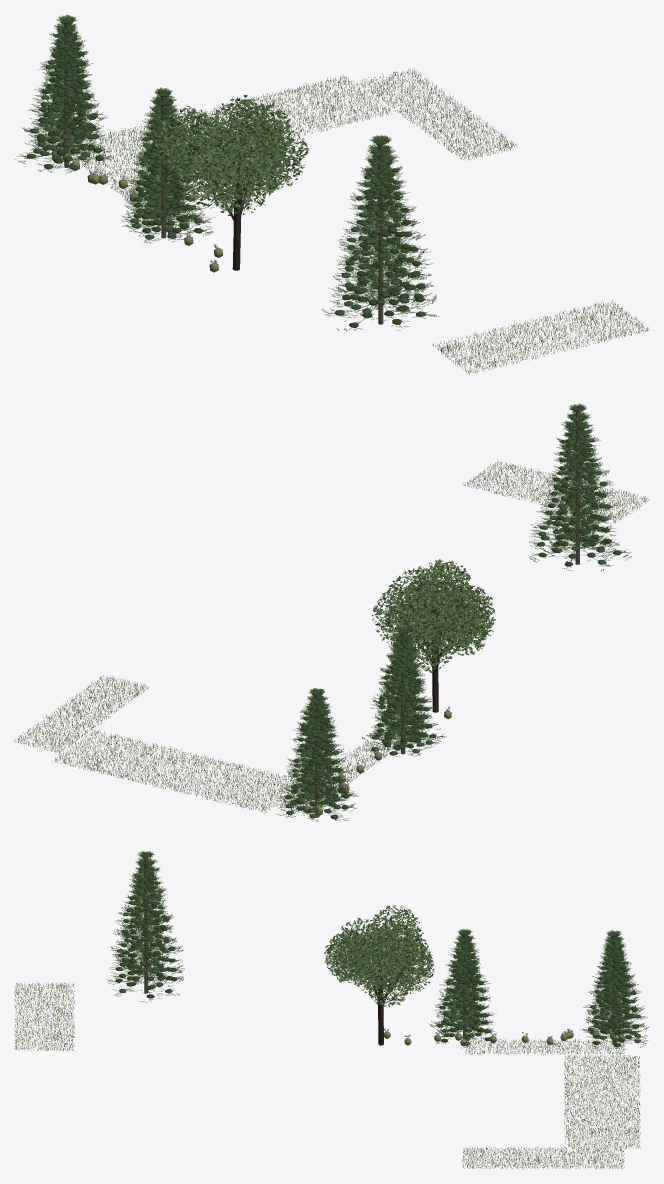
File: villa-garden-plants-west.glb
3 views of the same model, one above another, from view 1: azimuth 30°, elevation 25°; view 2: azimuth 150°, elevation 25°; view 3: azimuth 270°, elevation 25° (orthographic). The views are drawn at different scales.
Visible parts, largest first — view 1: Garden grass blades, Individual folded leaves, Spruce needle sprays, Spruce foliage interior, Spruce needle sprays.002, Spruce foliage interior.002, Spruce needle sprays.001, Spruce foliage interior.001, Spruce branches, Spruce trunk, Tree trunk, Spruce branches.002 (+1 smaller); view 2: Garden grass blades, Individual folded leaves, Spruce needle sprays, Spruce foliage interior, Spruce needle sprays.002, Spruce needle sprays.001, Spruce foliage interior.002, Spruce foliage interior.001, Spruce branches; view 3: Garden grass blades, Individual folded leaves, Spruce needle sprays, Spruce foliage interior, Spruce needle sprays.002, Spruce needle sprays.001, Spruce foliage interior.002, Spruce foliage interior.001, Spruce branches.
Part boxes in pixels (left/top/right/bottom): Garden grass blades: left=71, top=68, right=649, bottom=374; Individual folded leaves: left=152, top=95, right=309, bottom=215; Spruce needle sprays: left=321, top=135, right=438, bottom=330; Spruce foliage interior: left=334, top=137, right=425, bottom=327; Spruce needle sprays.002: left=14, top=15, right=113, bottom=173; Spruce foliage interior.002: left=26, top=18, right=104, bottom=169; Spruce needle sprays.001: left=121, top=87, right=214, bottom=243; Spruce foliage interior.001: left=130, top=90, right=202, bottom=239; Spruce branches: left=325, top=137, right=436, bottom=331; Spruce trunk: left=378, top=144, right=383, bottom=324; Tree trunk: left=232, top=147, right=241, bottom=270; Spruce branches.002: left=18, top=17, right=111, bottom=170; Garden grass blades: left=14, top=459, right=649, bottom=813; Individual folded leaves: left=372, top=559, right=495, bottom=672; Spruce needle sprays: left=529, top=403, right=631, bottom=571; Spruce foliage interior: left=537, top=406, right=621, bottom=566; Spruce needle sprays.002: left=275, top=688, right=358, bottom=821; Spruce needle sprays.001: left=361, top=626, right=446, bottom=756; Spruce foliage interior.002: left=285, top=690, right=349, bottom=819; Spruce foliage interior.001: left=371, top=629, right=436, bottom=755; Spruce branches: left=529, top=405, right=631, bottom=569; Garden grass blades: left=14, top=982, right=640, bottom=1169; Individual folded leaves: left=324, top=905, right=434, bottom=1007; Spruce needle sprays: left=106, top=851, right=184, bottom=1002; Spruce foliage interior: left=115, top=853, right=177, bottom=998; Spruce needle sprays.002: left=579, top=930, right=648, bottom=1049; Spruce needle sprays.001: left=428, top=929, right=503, bottom=1048; Spruce foliage interior.002: left=588, top=932, right=641, bottom=1047; Spruce foliage interior.001: left=437, top=931, right=491, bottom=1045; Spruce branches: left=108, top=852, right=184, bottom=1001.
Size of the model in its own units: 17.79 by 10.64 by 31.93.
10 materials, 10 textured.
